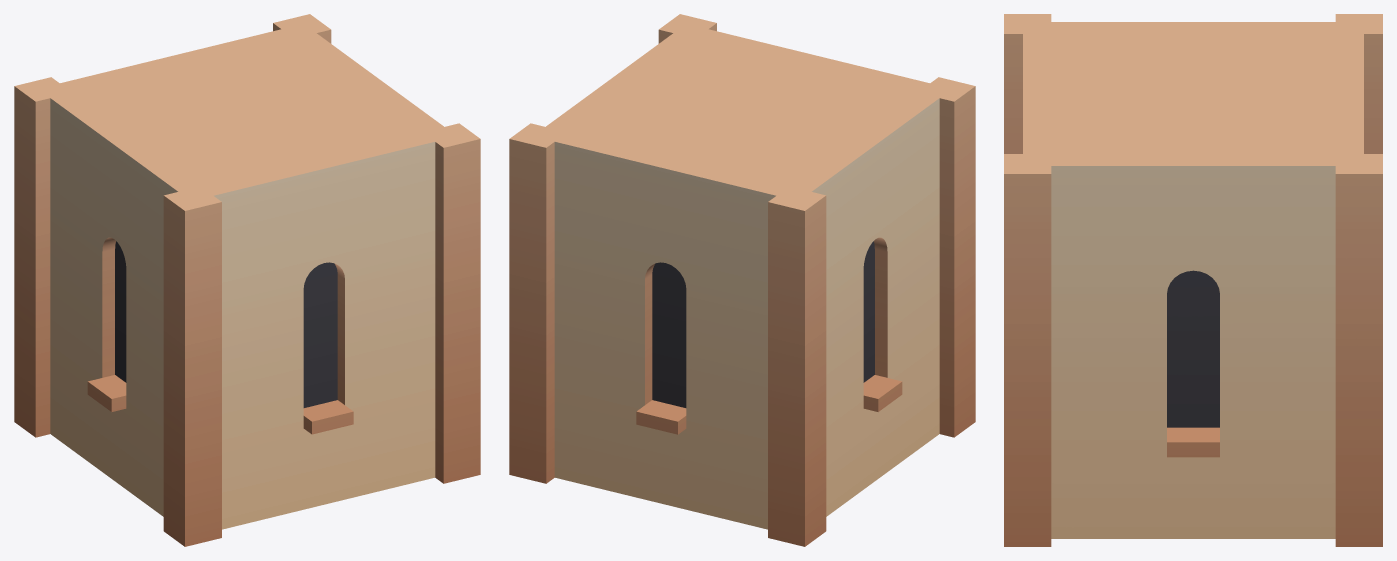
The model's file is tower-square-mid-windows.glb.
3 renders of one model, left to right at view 1: azimuth 30°, elevation 25°; view 2: azimuth 150°, elevation 25°; view 3: azimuth 270°, elevation 25°, orthographic. The views are drawn at different scales.
Parts seen in each view (by area): view 1: tower-square-mid-windows; view 2: tower-square-mid-windows; view 3: tower-square-mid-windows.
Part boxes in pixels (left/top/right/bottom): tower-square-mid-windows: left=14, top=14, right=480, bottom=546; tower-square-mid-windows: left=509, top=14, right=975, bottom=546; tower-square-mid-windows: left=1004, top=14, right=1382, bottom=546.
Size of the model in its own units: 0.93 by 1.01 by 0.93.
1 material, 1 textured.
